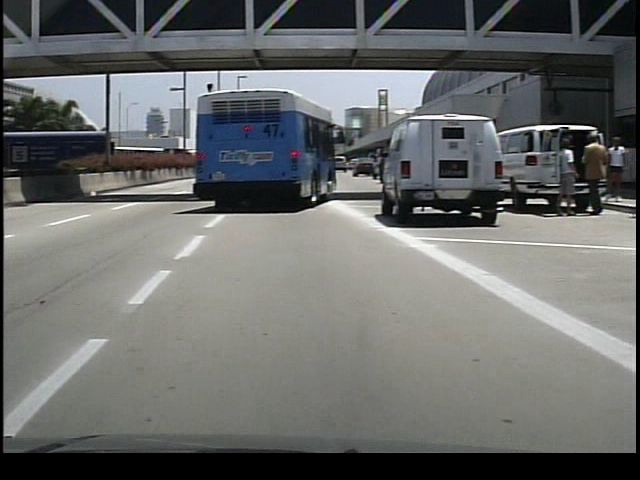person: (574, 130, 605, 218), (550, 134, 574, 217)
